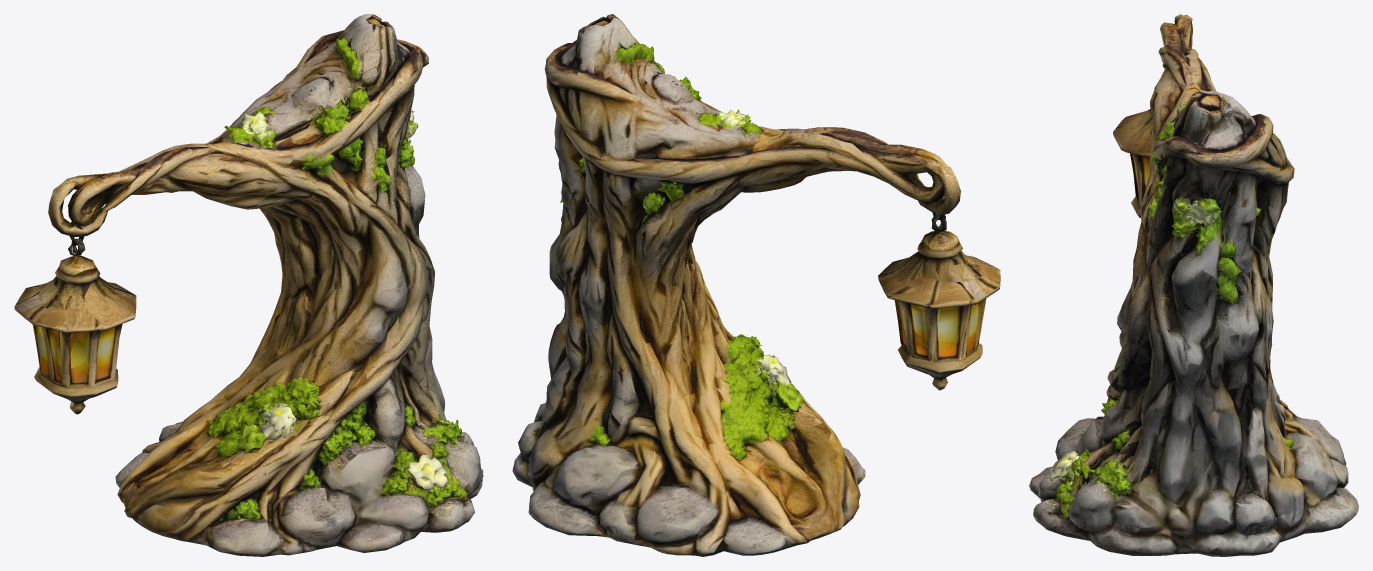
The model's file is Enchanted_Lantern_Tre.glb.
The picture shows the model from 3 angles, left to right: view 1: azimuth 30°, elevation 25°; view 2: azimuth 150°, elevation 25°; view 3: azimuth 270°, elevation 25°; orthographic projection. The views are drawn at different scales.
Visible parts, largest first — view 1: Enchanted_Lantern_Tre; view 2: Enchanted_Lantern_Tre; view 3: Enchanted_Lantern_Tre.
Boxes of the visible parts, bbox=[...] form: Enchanted_Lantern_Tre: bbox=[14, 14, 483, 556]; Enchanted_Lantern_Tre: bbox=[512, 14, 1000, 556]; Enchanted_Lantern_Tre: bbox=[1029, 14, 1358, 556].
Bounding box in the file's own units: 1.9 × 1.86 × 1.28.
1 material, 1 textured.
